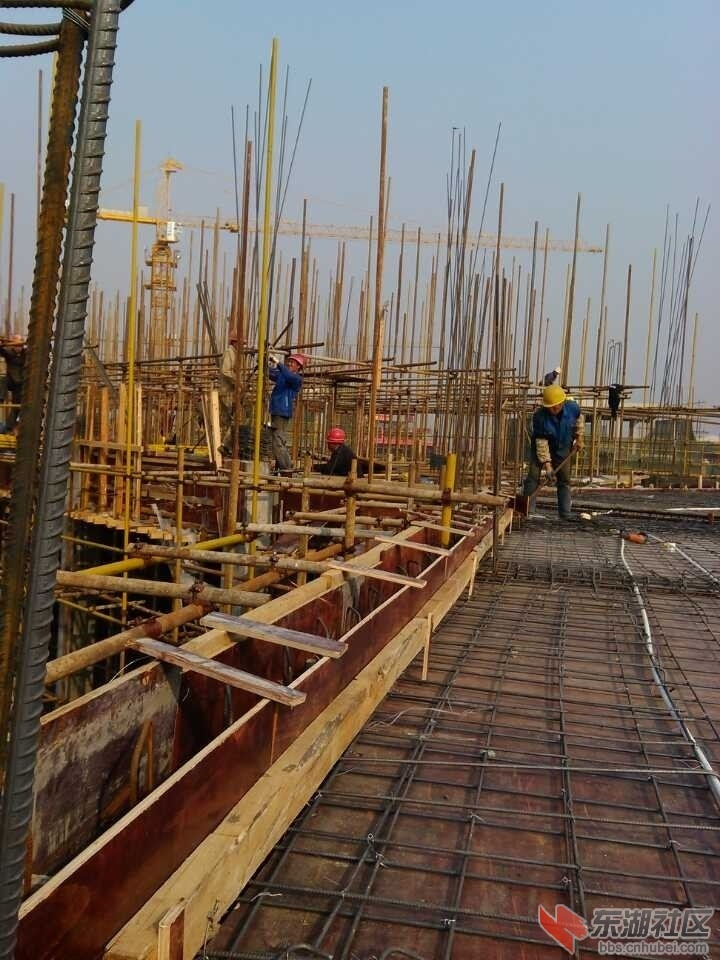red: (283, 352, 306, 374), (326, 426, 346, 451)
white: (554, 366, 561, 375)
yellow: (542, 385, 567, 413)
